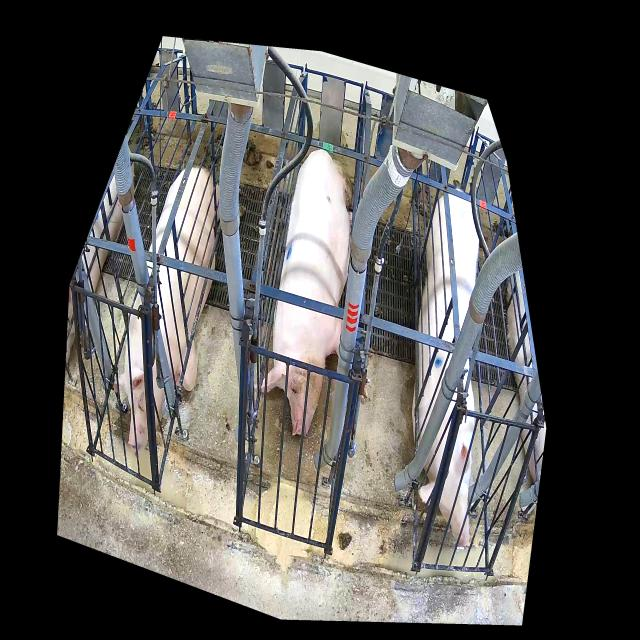pig: (113, 165, 220, 450), (262, 150, 354, 437), (412, 193, 479, 547)
